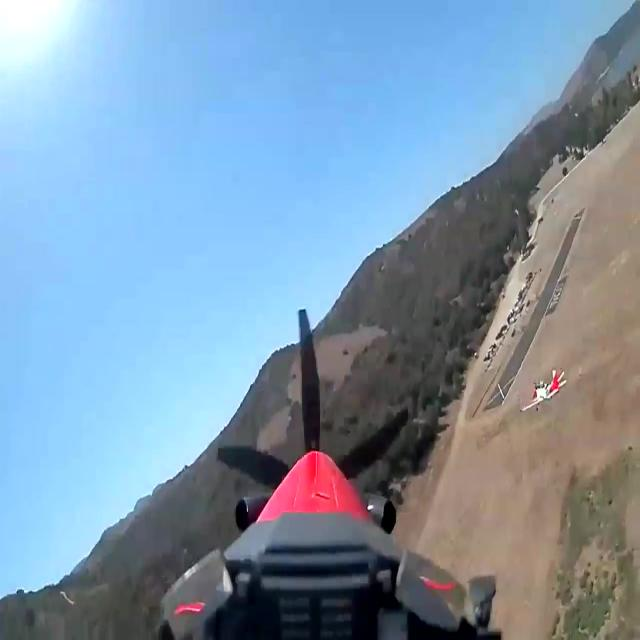iha: (518, 361, 566, 408)
